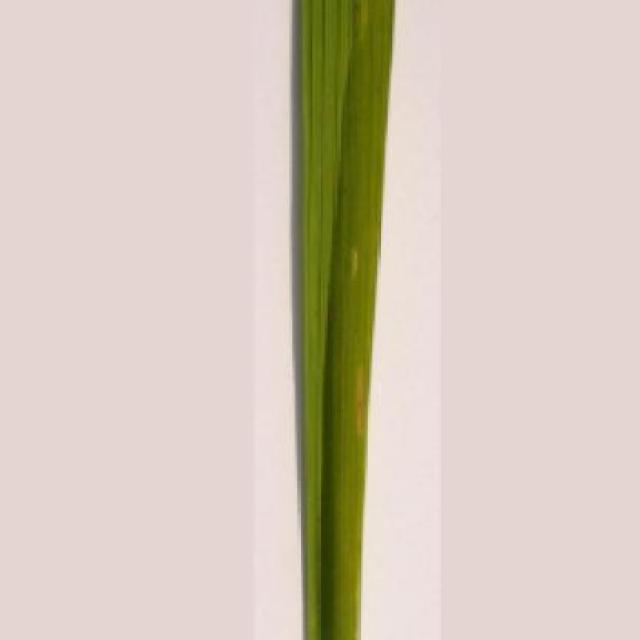Brown_Spot: (287, 0, 402, 640)
